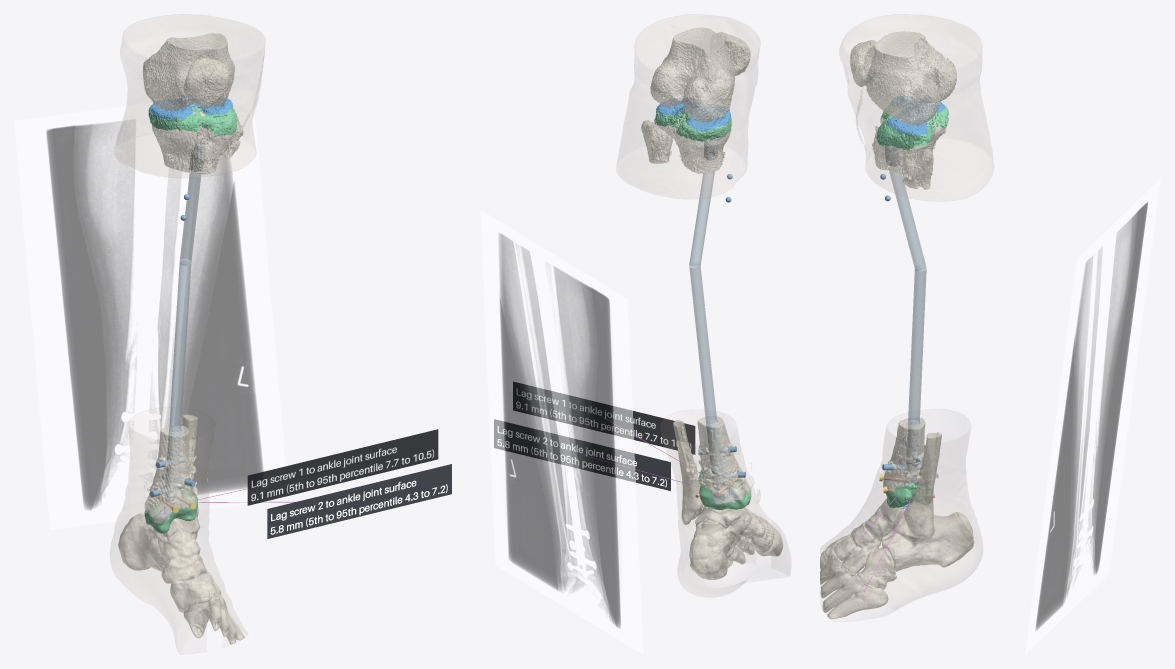
3 views of the same model, side by side, from view 1: azimuth 30°, elevation 25°; view 2: azimuth 150°, elevation 25°; view 3: azimuth 270°, elevation 25° (orthographic). The views are drawn at different scales.
Parts seen in each view (by area): view 1: radiograph, skin, implant_8, tibia, implant_16, tarsal, femur, nail_modelled, patella, metatarsal, capsule_band_knee, nail (+3 smaller); view 2: radiograph, skin, femur, implant_17, implant_9, tibia, tarsal, nail_modelled, fibula, articular_surface_knee, capsule_band_knee, nail (+3 smaller); view 3: radiograph, skin, tarsal, femur, tibia, fibula, nail_modelled, metatarsal, capsule_band_knee, articular_surface_knee, nail, patella (+1 smaller).
Boxes of the visible parts, x1,y1,x2,y2 form: radiograph: (14,89,288,529); skin: (110,14,265,653); implant_8: (247,429,438,505); tibia: (145,107,234,533); implant_16: (267,464,451,538); tarsal: (118,510,221,612); femur: (142,33,234,110); nail_modelled: (169,173,201,432); patella: (183,57,231,108); metatarsal: (183,592,244,644); capsule_band_knee: (148,99,236,136); nail: (165,141,205,504); radiograph: (480,210,643,654); skin: (616,14,790,597); femur: (650,27,735,122); implant_17: (494,419,670,490); implant_9: (513,382,695,454); tibia: (654,109,751,509); tarsal: (689,490,773,579); nail_modelled: (689,171,717,424); fibula: (641,120,703,524); articular_surface_knee: (656,98,730,131); capsule_band_knee: (654,103,731,141); nail: (704,138,724,490); radiograph: (1025,178,1160,654); skin: (820,14,993,611); tarsal: (825,498,974,588); femur: (865,31,957,125); tibia: (872,117,947,508); fibula: (902,148,941,538); nail_modelled: (889,170,926,425); metatarsal: (820,550,888,618); capsule_band_knee: (876,103,948,150); articular_surface_knee: (886,96,946,135); nail: (885,145,919,485); patella: (850,40,876,86).
Bounding box in the file's own units: 0.2864 × 0.5338 × 0.2874.
Materials: 15 (3 with a texture image).
